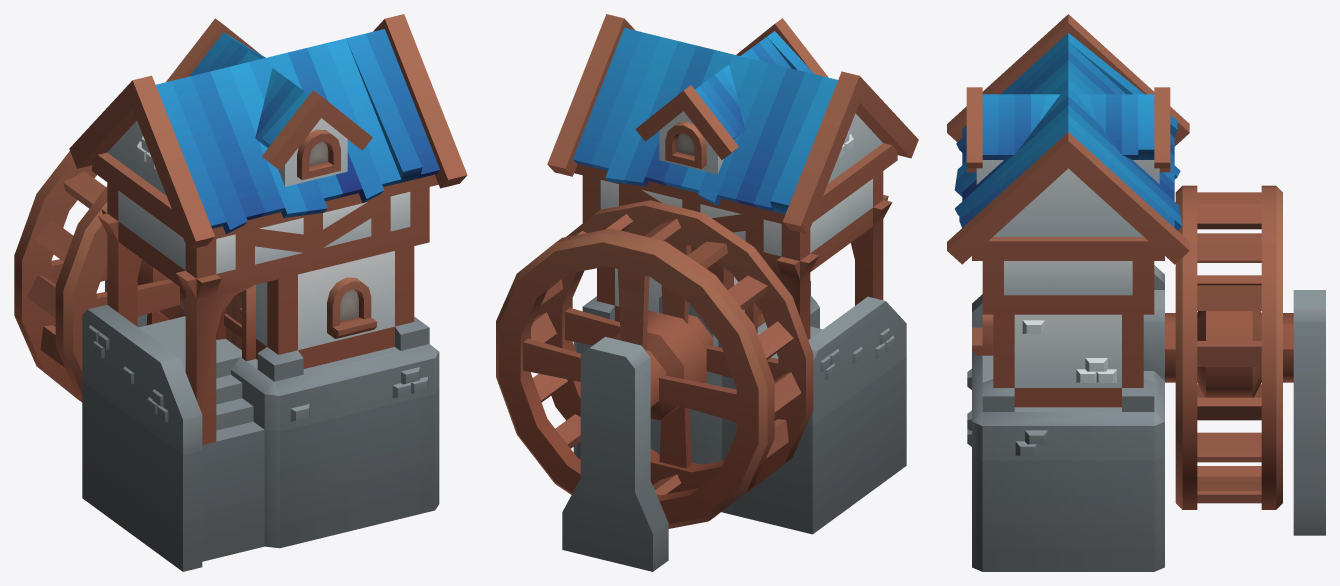
The model's file is building_watermill_blue.glb.
3 renders of one model, left to right at view 1: azimuth 30°, elevation 25°; view 2: azimuth 150°, elevation 25°; view 3: azimuth 270°, elevation 25°, orthographic. The views are drawn at different scales.
Visible parts, largest first — view 1: building_watermill_blue, building_watermill_wheel_blue; view 2: building_watermill_blue, building_watermill_wheel_blue; view 3: building_watermill_blue, building_watermill_wheel_blue.
Boxes of the visible parts, x1,y1,x2,y2 form: building_watermill_blue: [69, 14, 467, 571]; building_watermill_wheel_blue: [14, 151, 185, 402]; building_watermill_blue: [547, 14, 918, 571]; building_watermill_wheel_blue: [496, 200, 813, 528]; building_watermill_blue: [947, 14, 1325, 571]; building_watermill_wheel_blue: [1165, 185, 1293, 509].
Bounding box in the file's own units: 1.05 × 1.57 × 1.24.
1 material, 1 textured.
